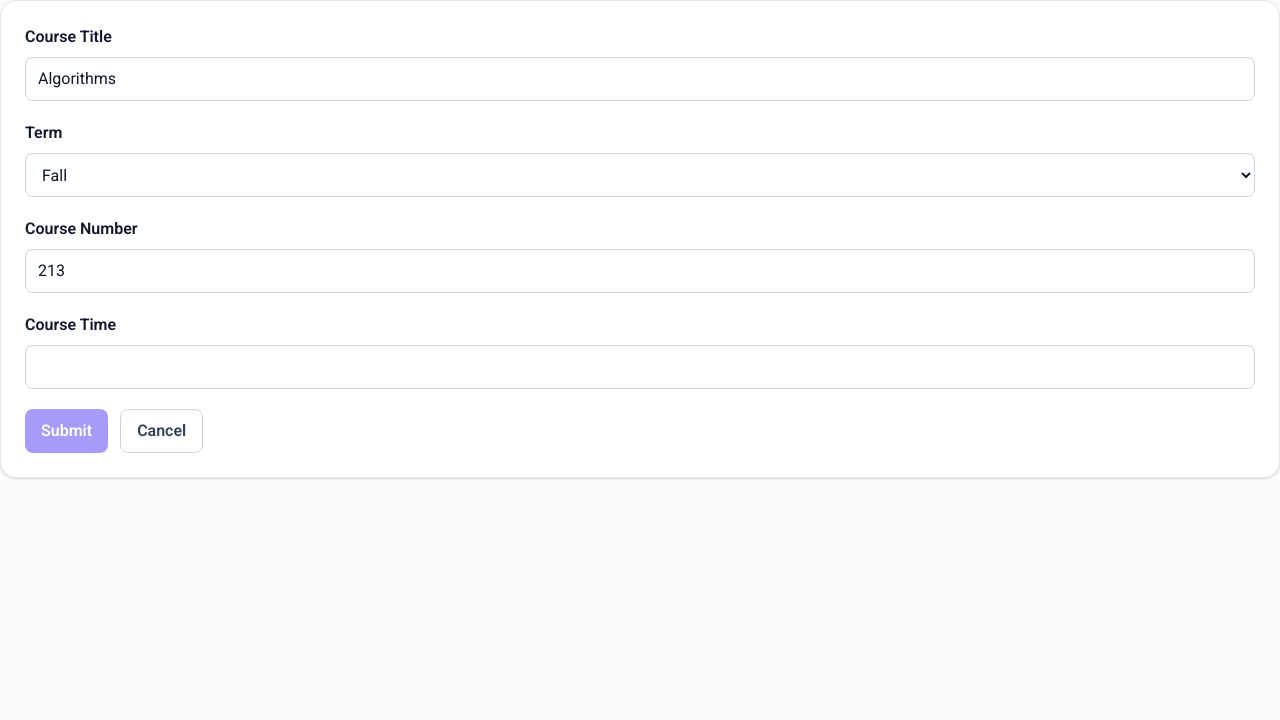
Test case: CoursesForm › shows an error when saving fails
Replace the text in the field labelled "Course Title" with "Advanced Algorithms": (640, 79) [25,57,1255,101]
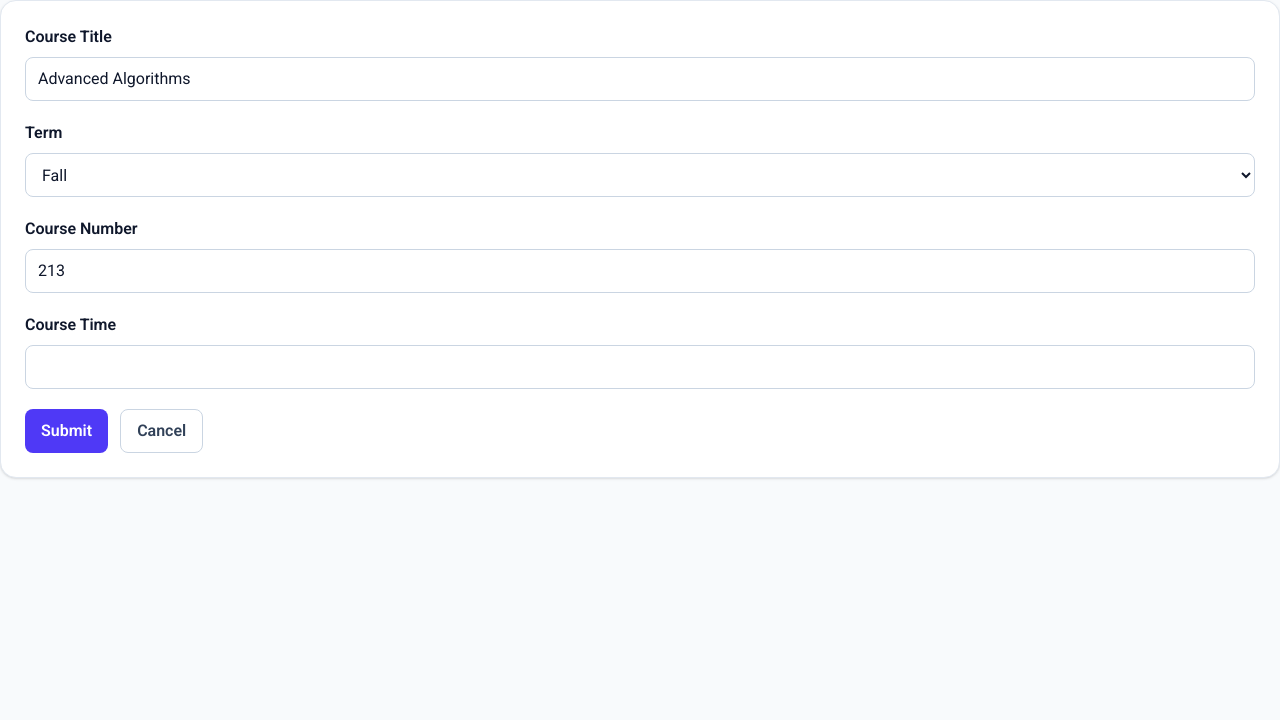
Check: the button "Submit" is enabled
Click the button "Submit": (67, 431) [25,409,108,453]
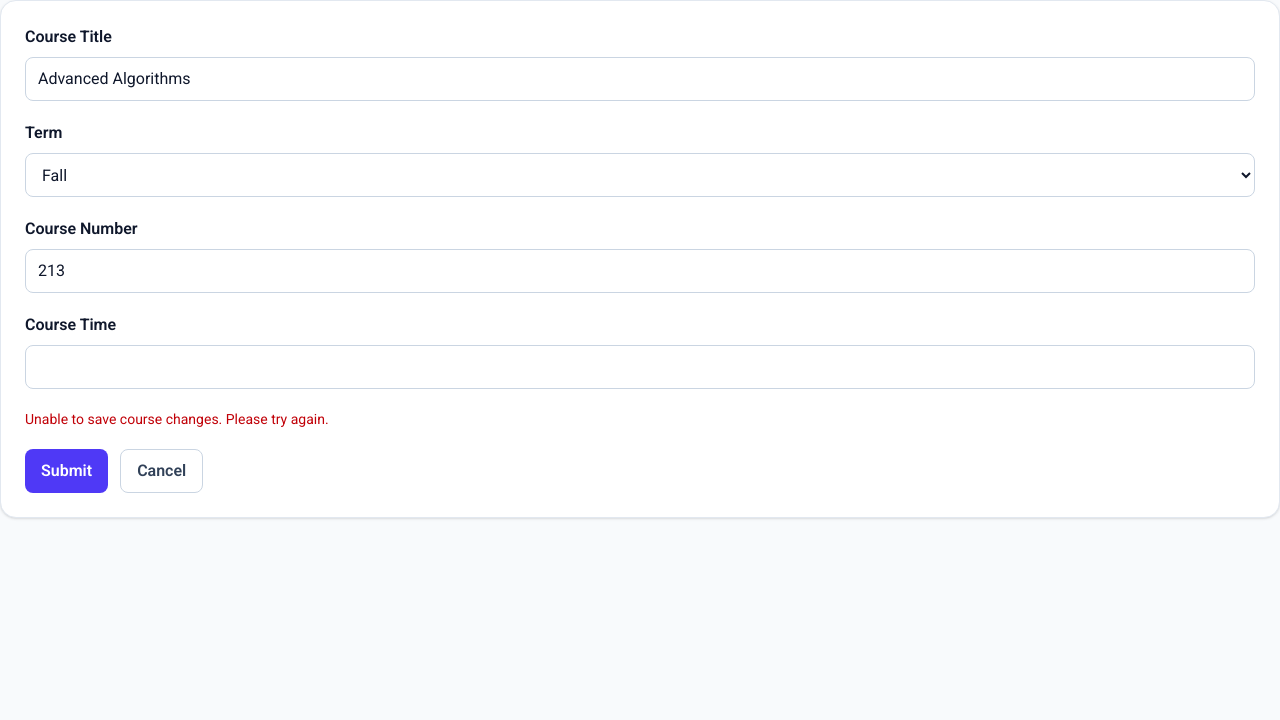
Check: the text "Unable to save course changes. Please try again." is shown, box [25,411,329,427]
